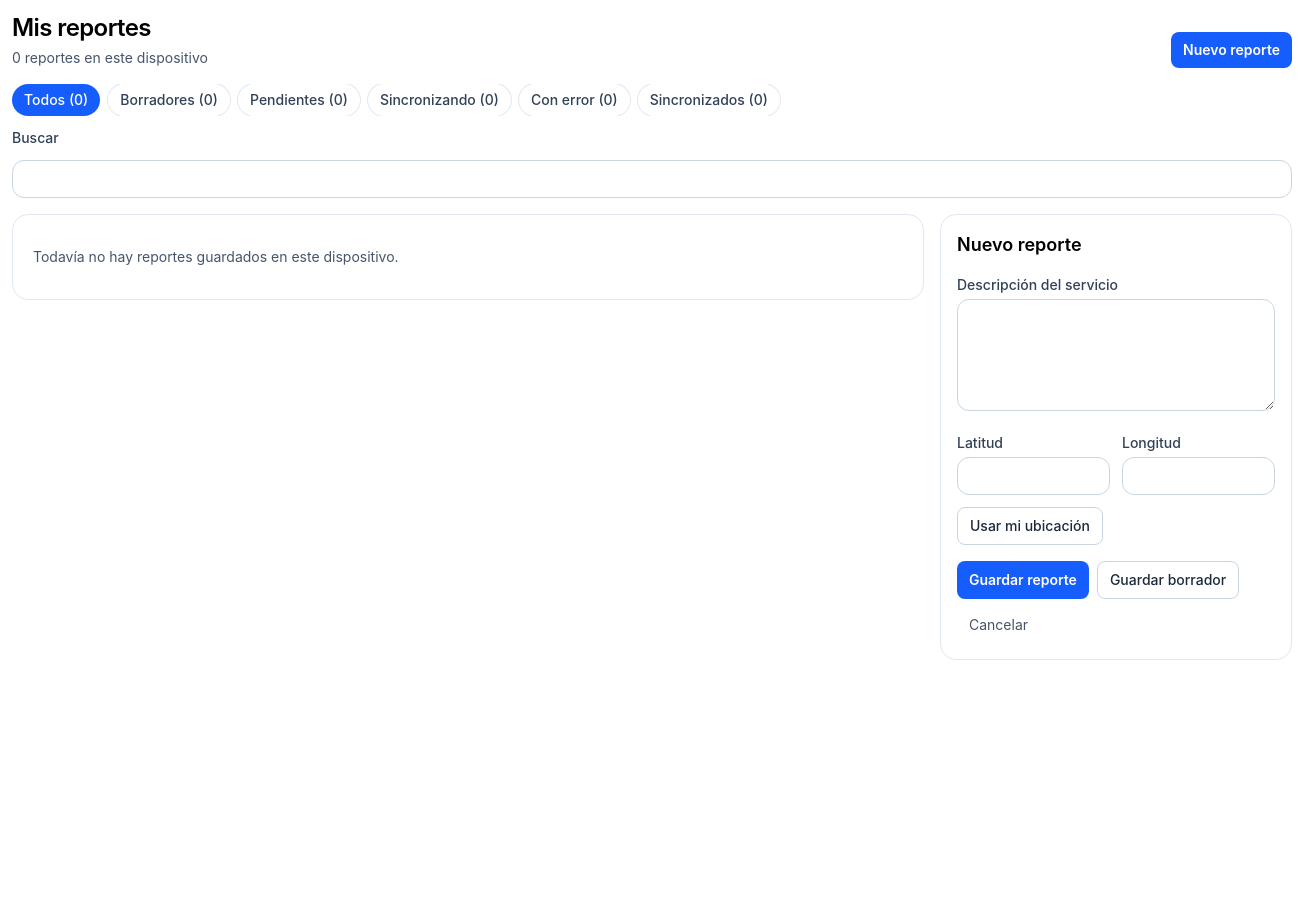
it: ReportsScreen › asks for a description before saving
This screenshot has width=1304, height=912.
Click the button "Guardar reporte" at coordinates (1023, 580), box [957, 561, 1089, 599]
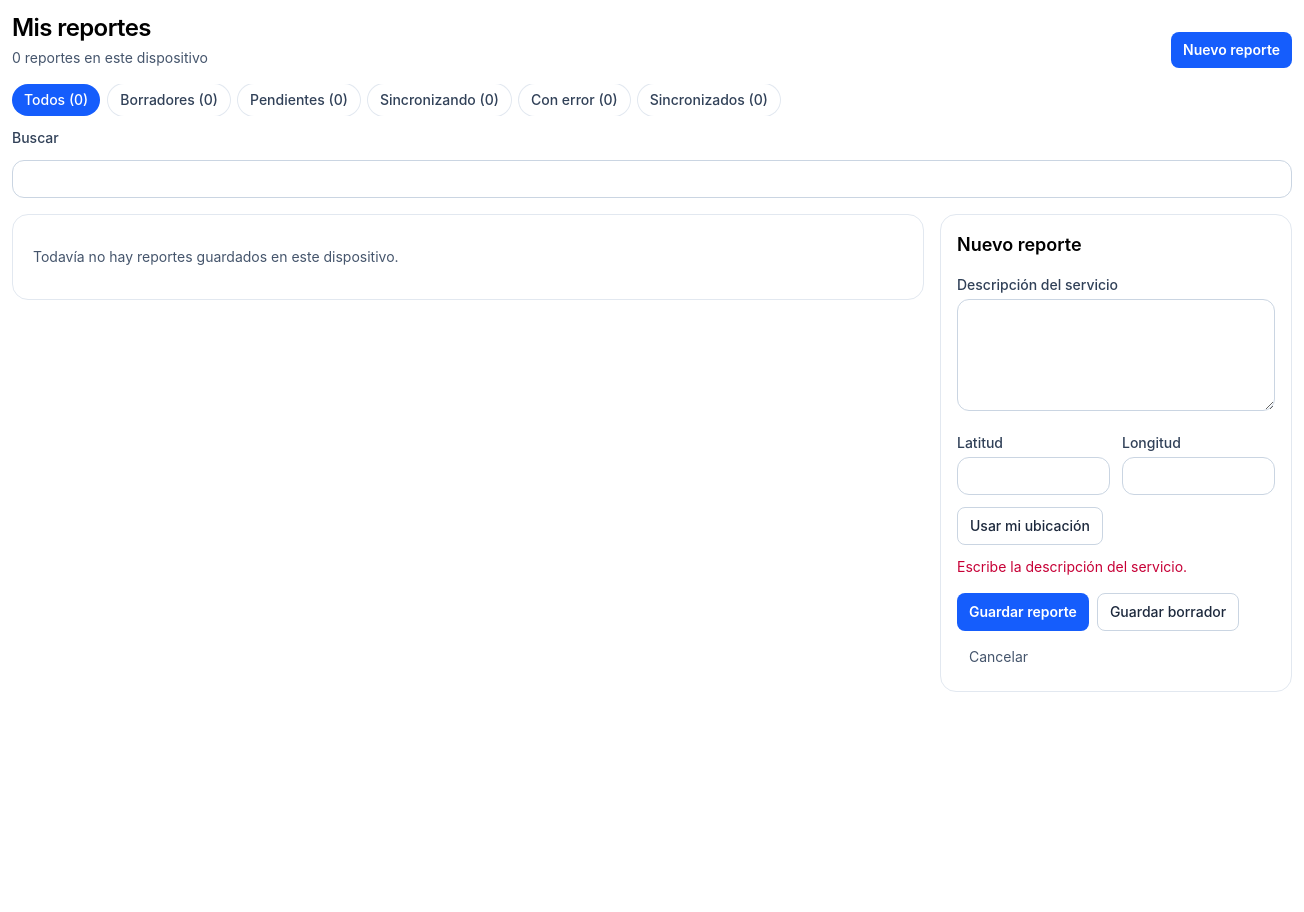
Check: the message reads "Escribe la descripción del servicio.", box [957, 558, 1187, 575]
